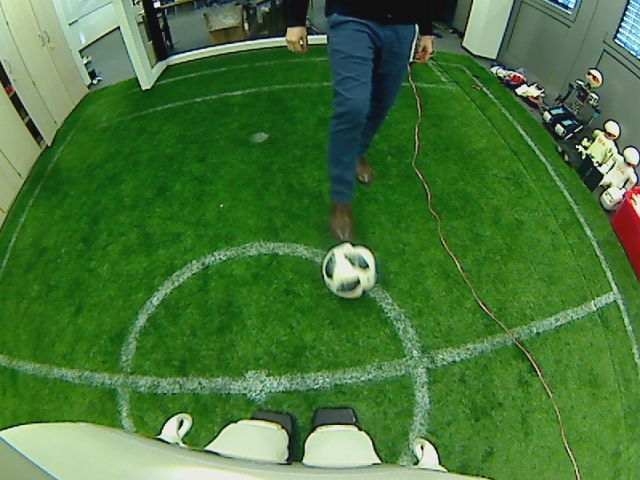ball: (321, 242, 377, 298)
